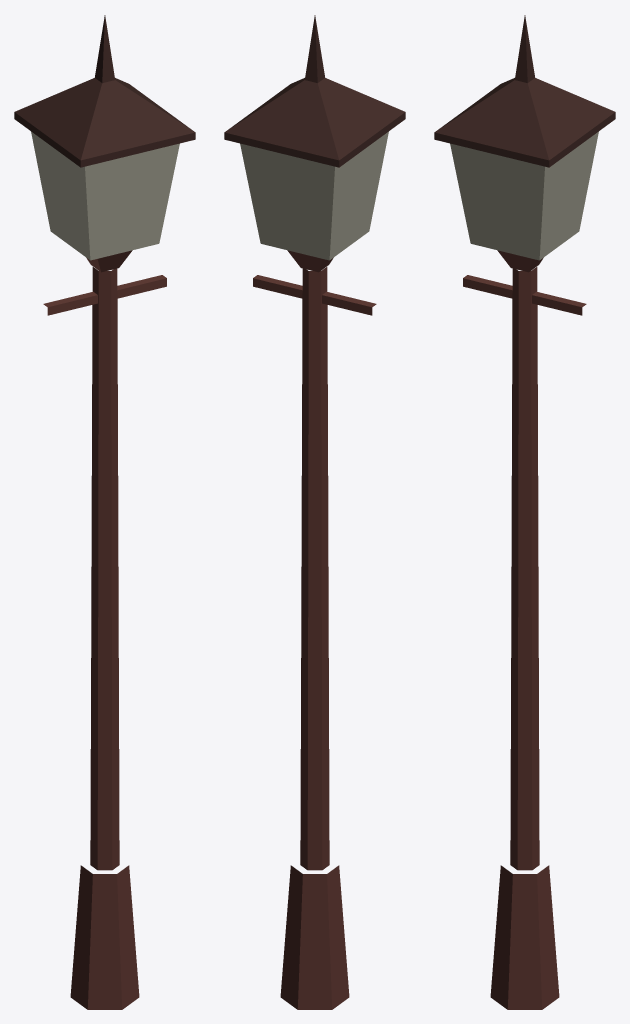
File: lamp-lantern.glb
3 views of the same model, side by side, from view 1: azimuth 30°, elevation 25°; view 2: azimuth 150°, elevation 25°; view 3: azimuth 330°, elevation 25° (orthographic).
Visible parts, largest first — view 1: lamp-lantern; view 2: lamp-lantern; view 3: lamp-lantern.
Boxes of the visible parts, x1,y1,x2,y2 form: lamp-lantern: (14,15,195,1009); lamp-lantern: (224,15,405,1009); lamp-lantern: (434,15,615,1009).
Size of the model in its own units: 0.52 by 4.09 by 0.5.
